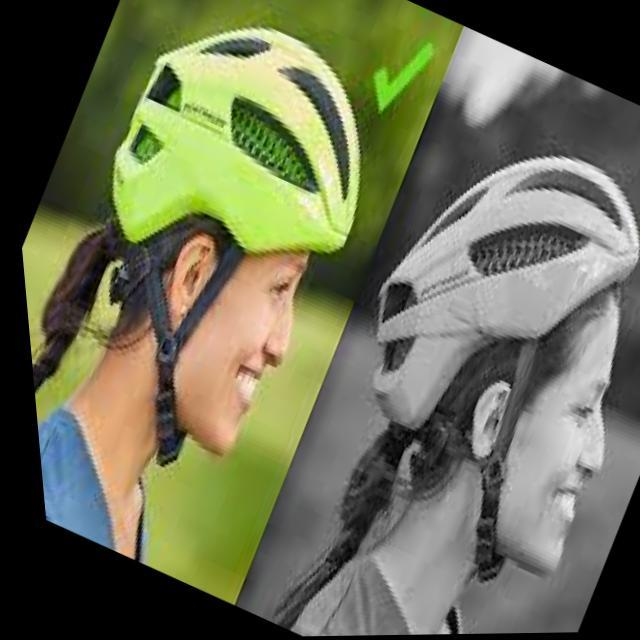Helmet: (32, 22, 366, 468)
